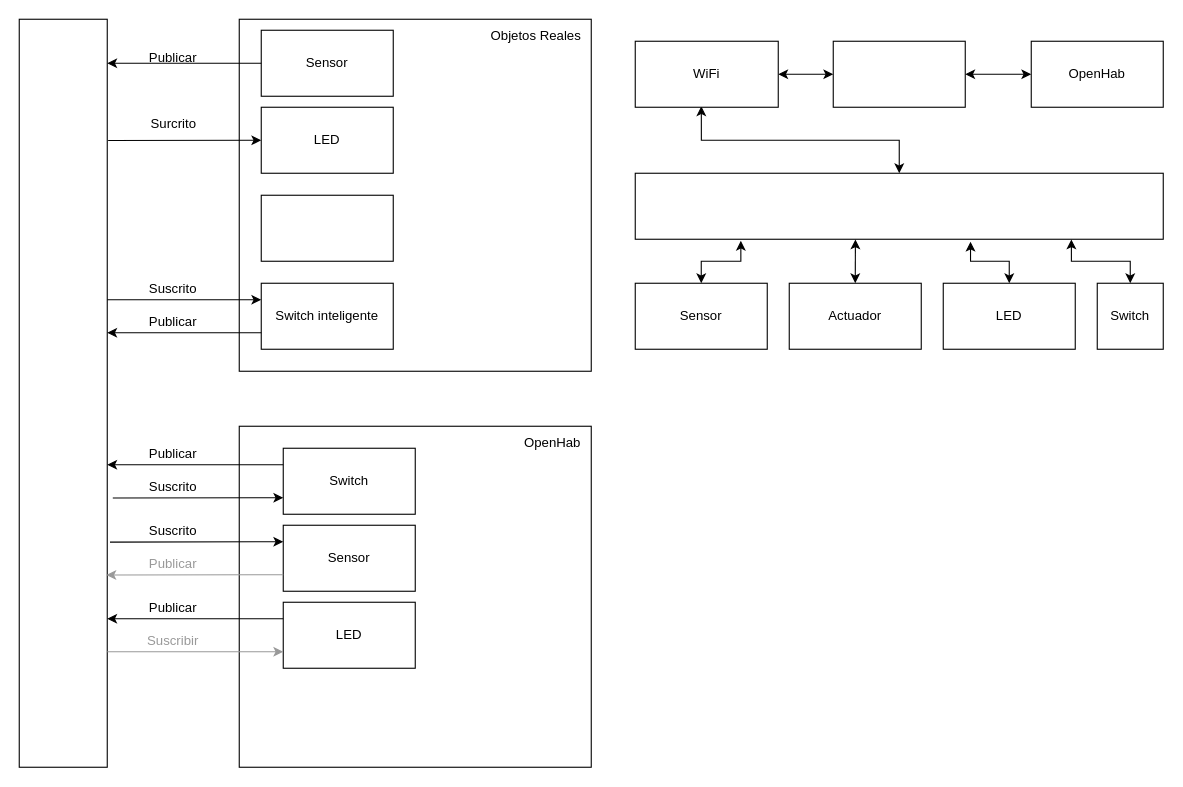
Some shapes in this 1183 by 787 pixel diagram are drawn without their labels. Each missing label, with the centre of its shape:
Broker MQTT: pixel 62 392
Micro controlador: pixel 898 205
MQTT: pixel 898 73
Switch normal Siempre encendido: pixel 326 227
